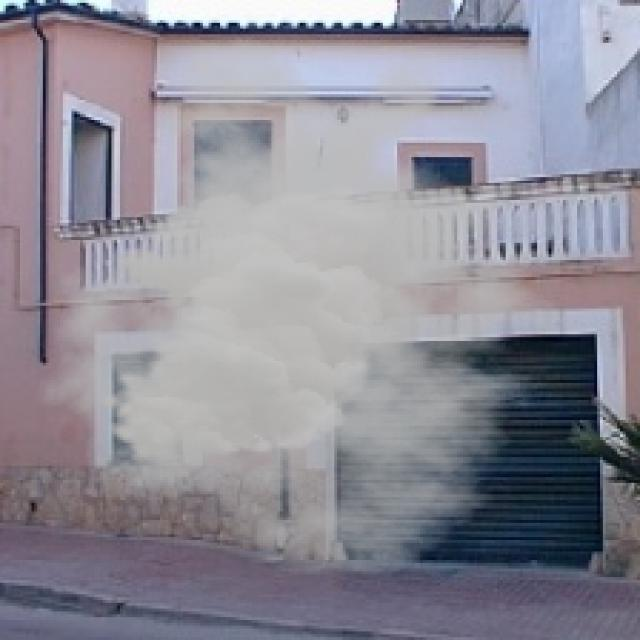Smoke: (37, 34, 594, 577)
